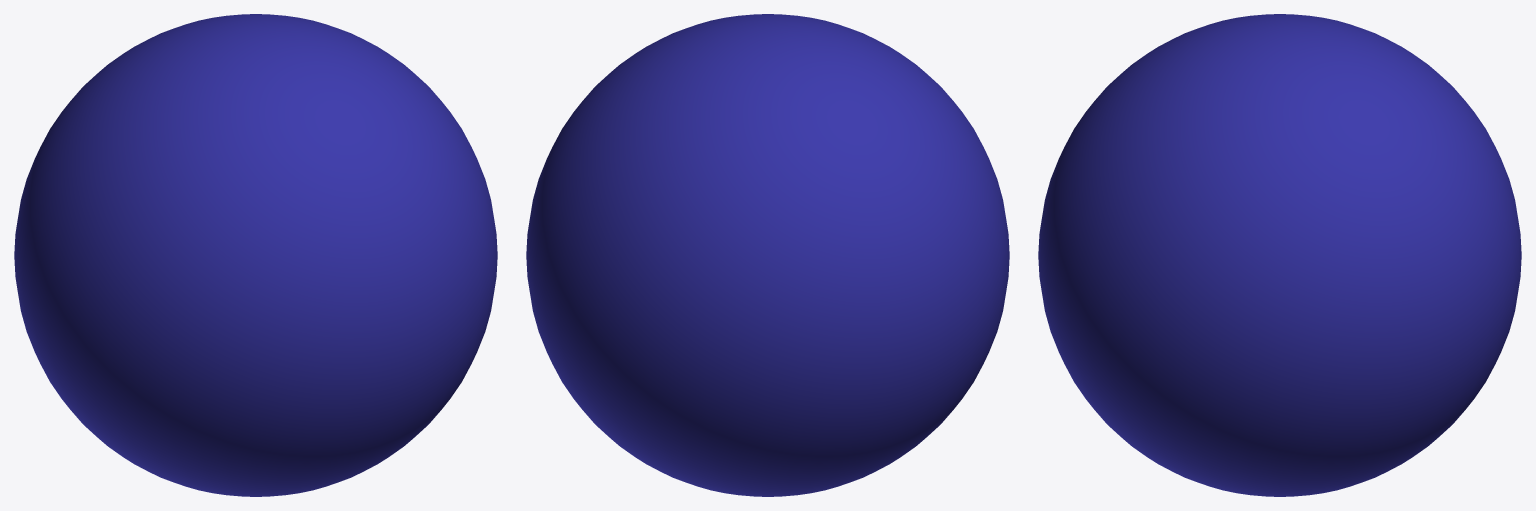
The model's file is cosmic-planet.glb.
3 views of the same model, side by side, from view 1: azimuth 30°, elevation 25°; view 2: azimuth 150°, elevation 25°; view 3: azimuth 270°, elevation 25° (orthographic).
Size of the model in its own units: 2 by 2 by 2.
